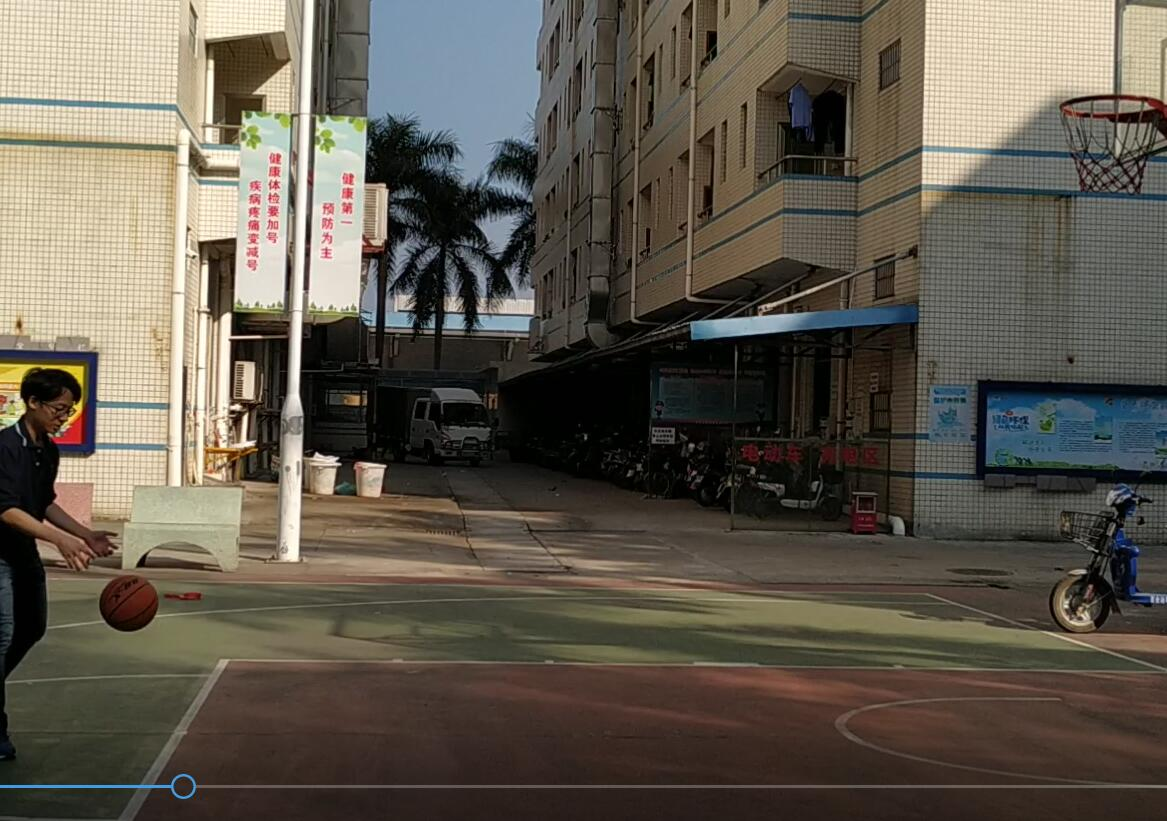basketball: (98, 574, 164, 633)
